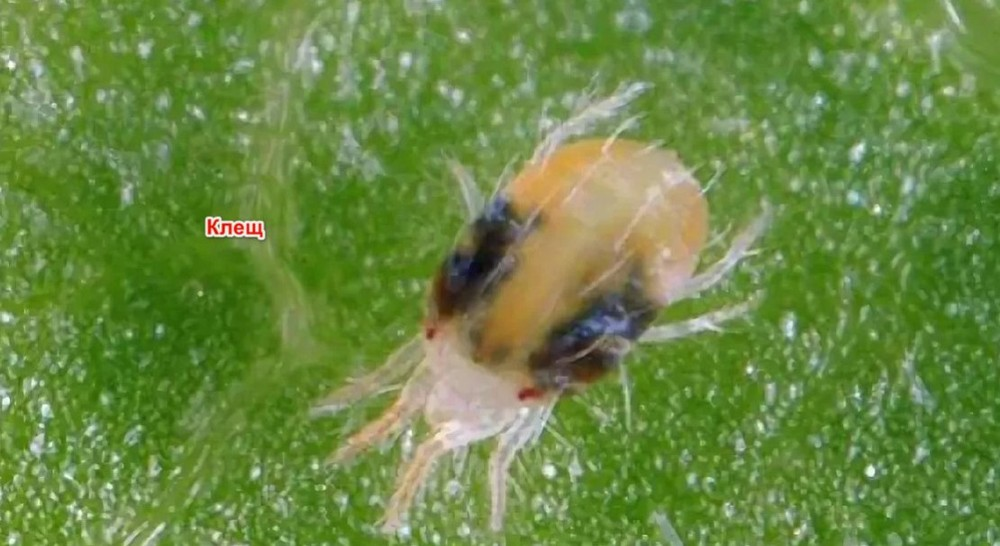Aracnido Rojo: (302, 71, 769, 527)
